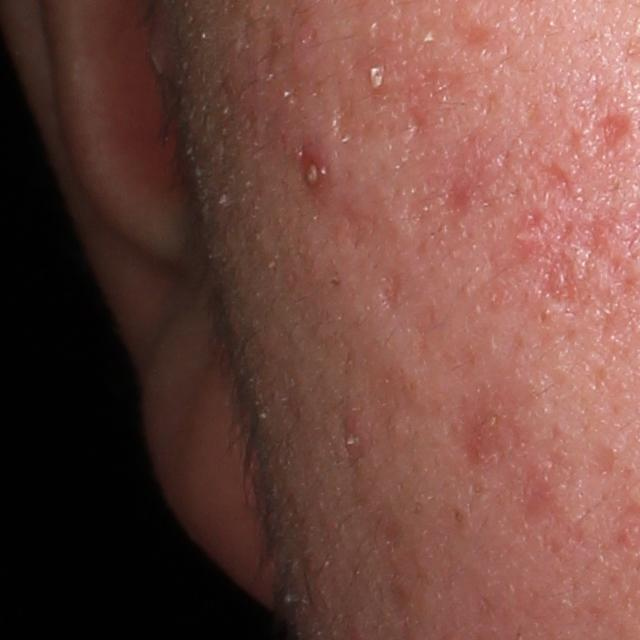atrophic_scar: (581, 112, 636, 166), (331, 81, 373, 143), (437, 168, 481, 218), (536, 252, 578, 302), (379, 270, 411, 312)
pustule: (292, 152, 326, 195)
